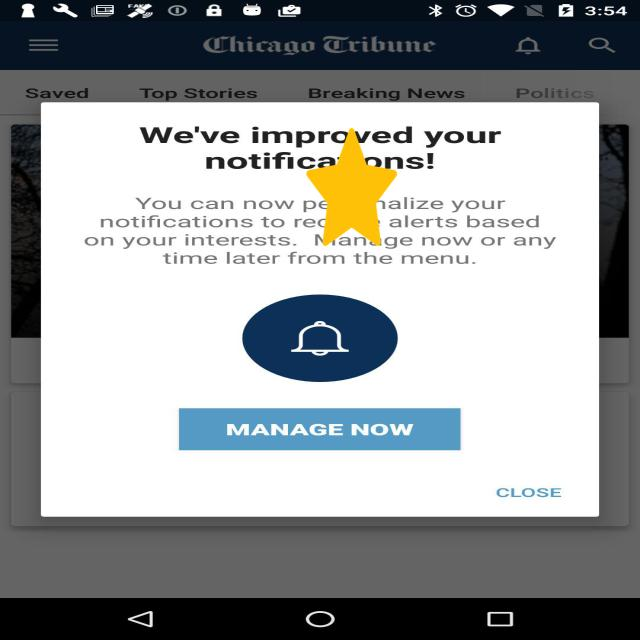forced continuity: (306, 128, 397, 246)
